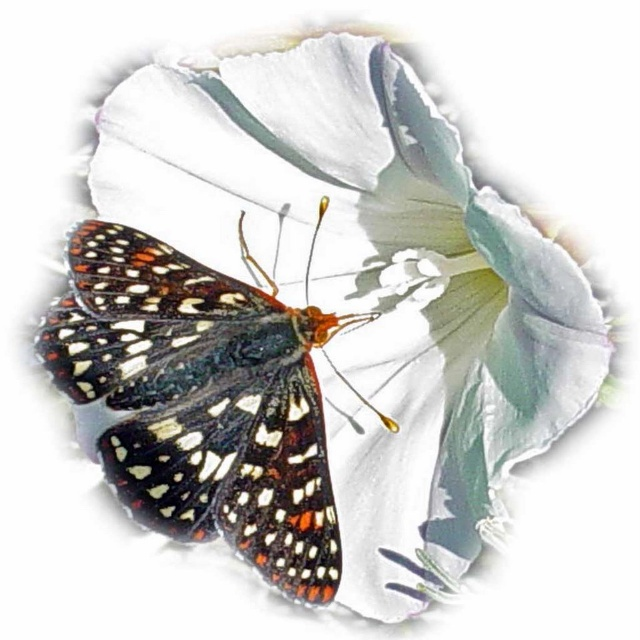Butterfly: (56, 189, 419, 602)
